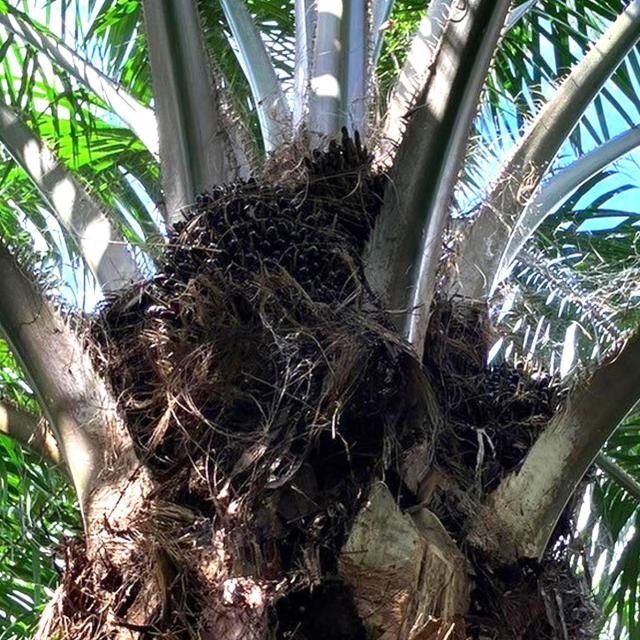ripe: (151, 168, 381, 436)
